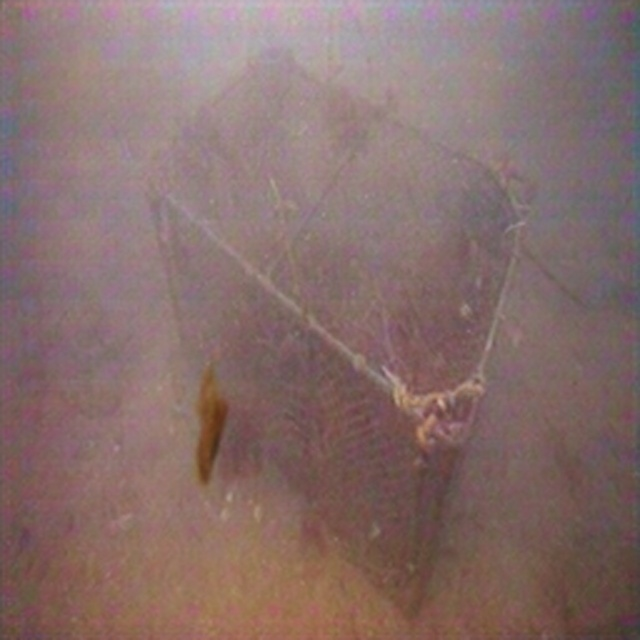mine: (143, 43, 538, 626)
